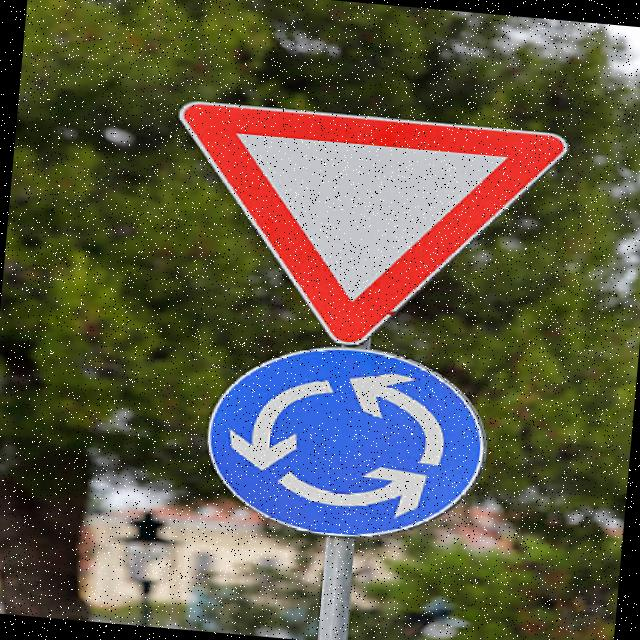round_about: (199, 334, 493, 548)
